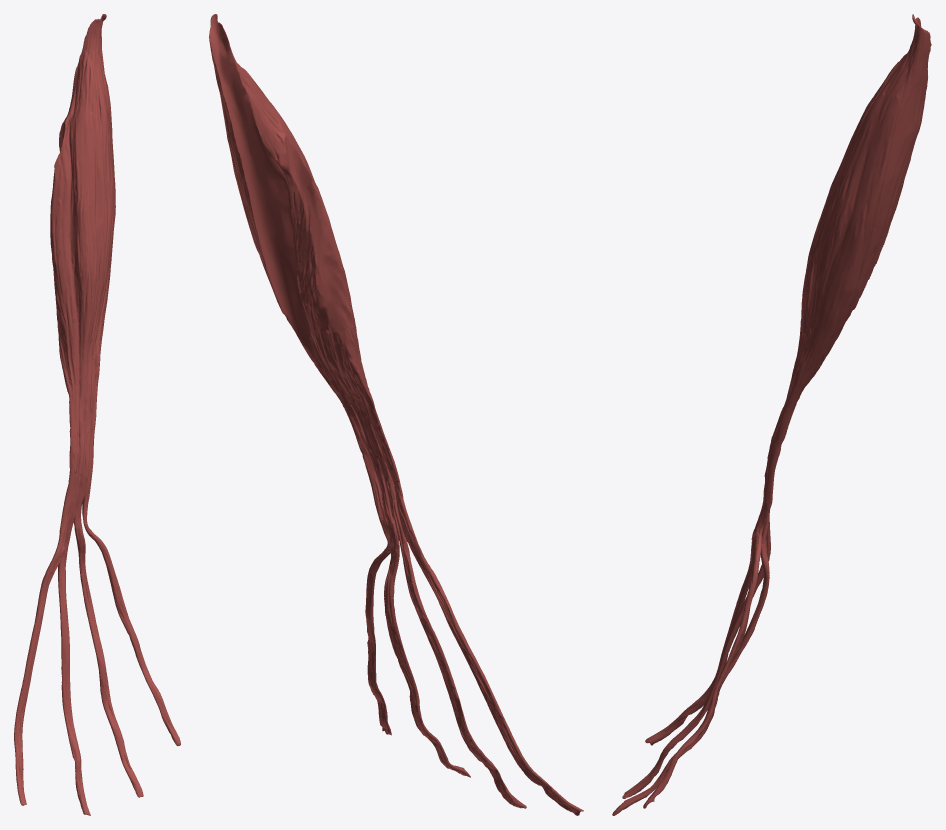
Rendered from FMA38479.glb.
3 renders of one model, left to right at view 1: azimuth 30°, elevation 25°; view 2: azimuth 150°, elevation 25°; view 3: azimuth 270°, elevation 25°, orthographic. The views are drawn at different scales.
Parts seen in each view (by area): view 1: FMA38479; view 2: FMA38479; view 3: FMA38479.
Boxes of the visible parts, x1,y1,x2,y2 form: FMA38479: (14,14,180,815); FMA38479: (209,14,583,815); FMA38479: (612,14,931,815).
Size of the model in its own units: 0.1031 by 0.3534 by 0.1185.
